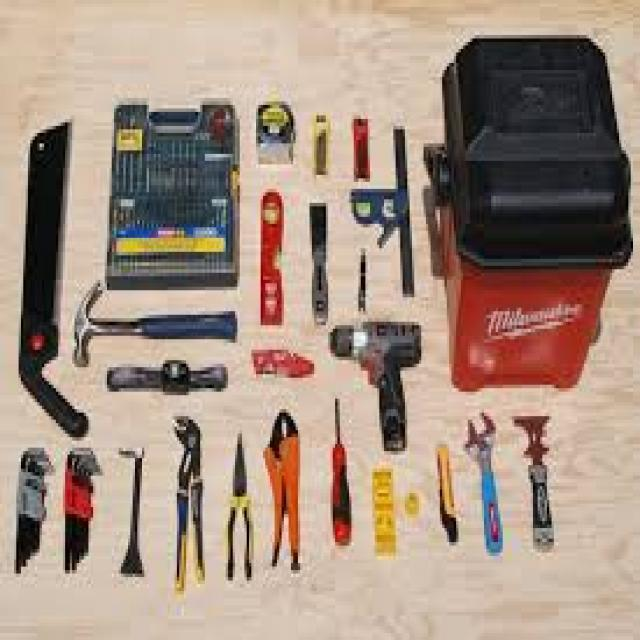hammer: (68, 278, 242, 371)
pliers: (162, 408, 208, 598), (260, 403, 306, 580), (221, 426, 257, 587)
screwdriver: (320, 391, 357, 552)
wrench: (460, 407, 508, 558)
